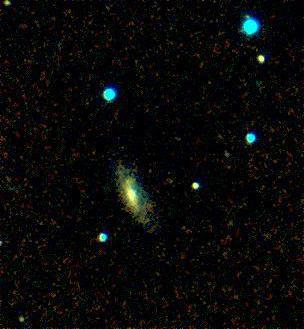star: (226, 1, 256, 31)
